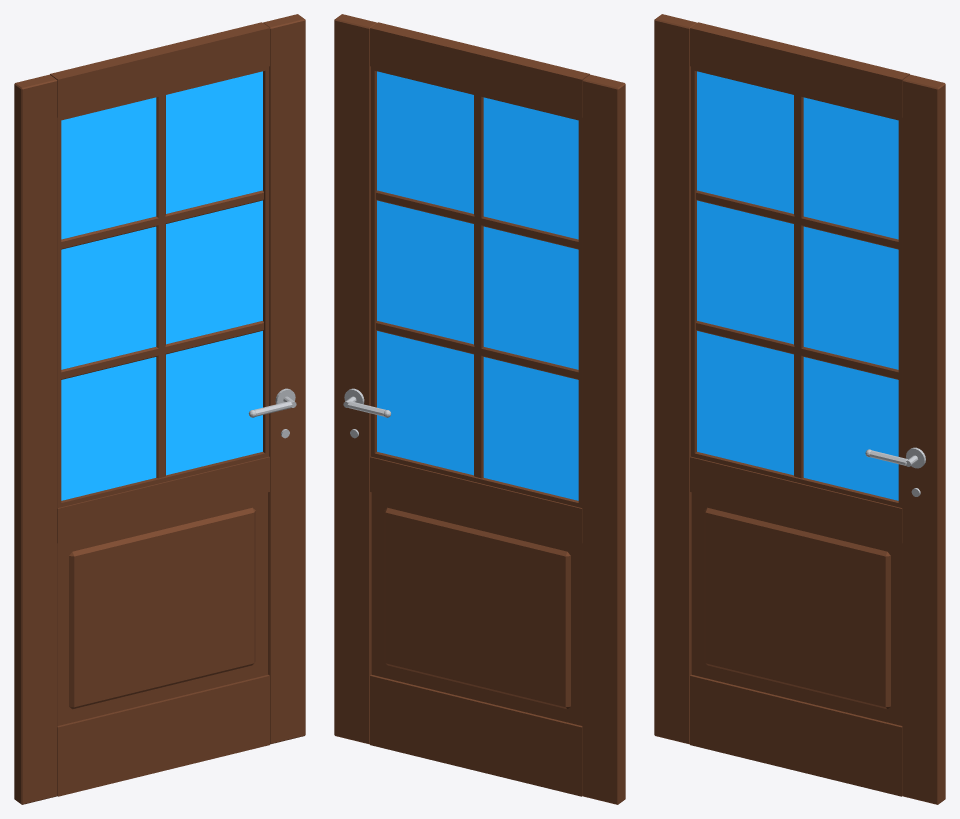
File: porta_vidro_6_madeira.glb
3 views of the same model, side by side, from view 1: azimuth 30°, elevation 25°; view 2: azimuth 150°, elevation 25°; view 3: azimuth 330°, elevation 25° (orthographic).
Parts seen in each view (by area): view 1: porta_vidro_6_madeira; view 2: porta_vidro_6_madeira; view 3: porta_vidro_6_madeira.
Part boxes in pixels (box(x1,y1,x2,y2)): porta_vidro_6_madeira: box(14, 14, 305, 804); porta_vidro_6_madeira: box(334, 14, 625, 804); porta_vidro_6_madeira: box(654, 14, 945, 804).
Size of the model in its own units: 0.86 by 2.07 by 0.143.
